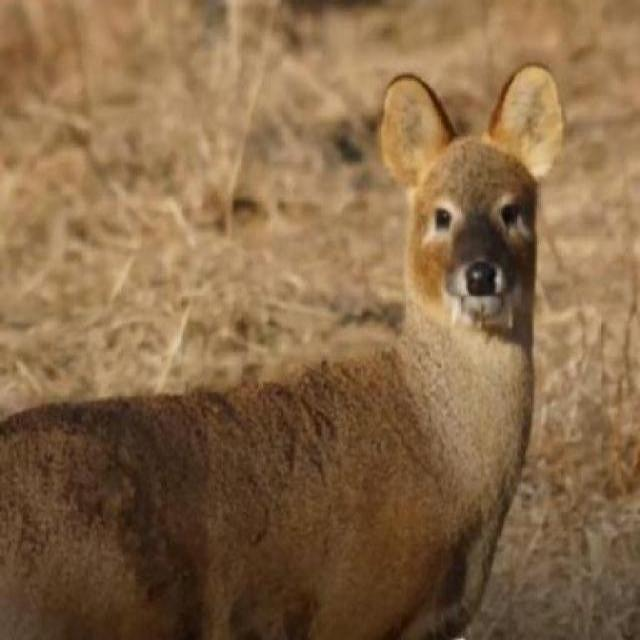deer: (0, 61, 572, 638)
